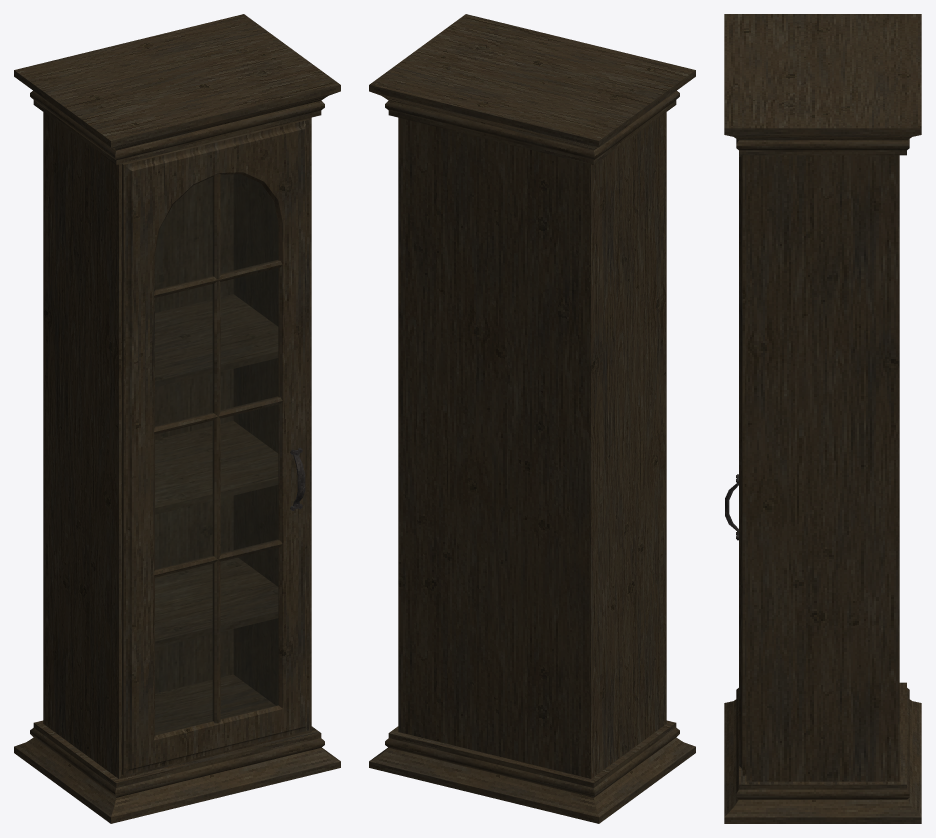
Rendered from display_cabinet_mp_1_4.glb.
3 views of the same model, side by side, from view 1: azimuth 30°, elevation 25°; view 2: azimuth 150°, elevation 25°; view 3: azimuth 270°, elevation 25° (orthographic).
Parts seen in each view (by area): view 1: display_cabinet_mp_1_4, display_cabinet_mp_1_4_door; view 2: display_cabinet_mp_1_4; view 3: display_cabinet_mp_1_4, display_cabinet_mp_1_4_door.
Part boxes in pixels (x1,y1,x2,y2): display_cabinet_mp_1_4: (14,14,340,823); display_cabinet_mp_1_4_door: (122,118,309,775); display_cabinet_mp_1_4: (369,14,695,823); display_cabinet_mp_1_4: (724,14,921,823); display_cabinet_mp_1_4_door: (725,155,746,775).
Size of the model in its own units: 0.74 by 2.1 by 0.54.
Materials: 3 (3 with a texture image).
